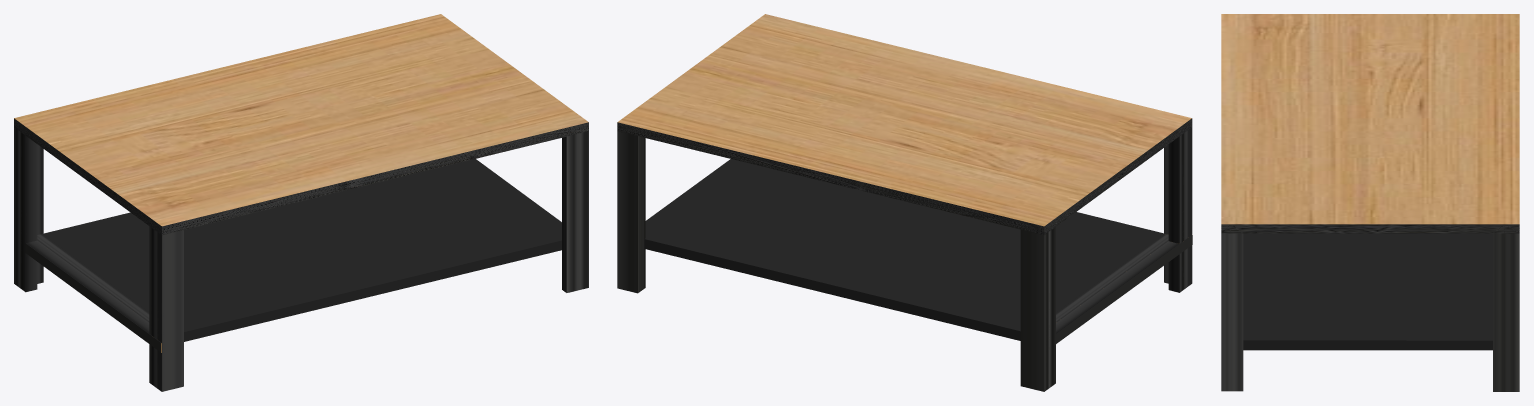
File: MesaTrabajo.fbx
3 views of the same model, side by side, from view 1: azimuth 30°, elevation 25°; view 2: azimuth 150°, elevation 25°; view 3: azimuth 270°, elevation 25° (orthographic).
Visible parts, largest first — view 1: Cube; view 2: Cube; view 3: Cube.
Boxes of the visible parts, x1,y1,x2,y2 form: Cube: (14, 14, 588, 391); Cube: (617, 14, 1192, 391); Cube: (1221, 14, 1519, 391).
Bounding box in the file's own units: 1001 × 372 × 600.
Materials: 2 (2 with a texture image).
